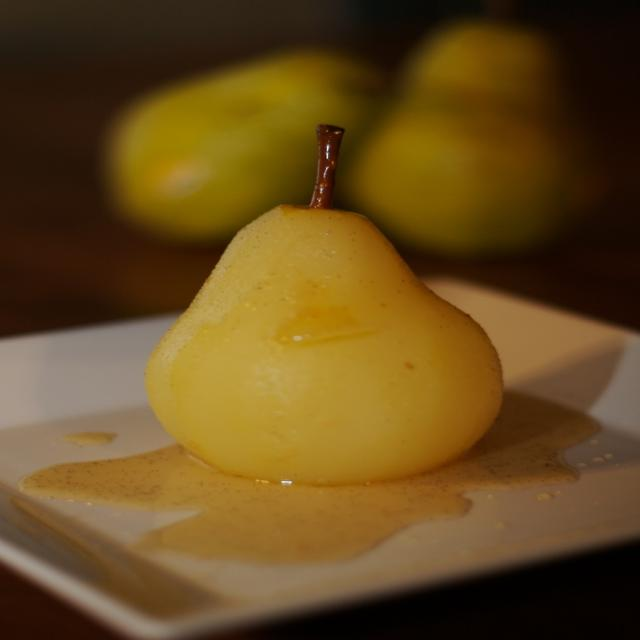pear: (138, 125, 502, 490)
